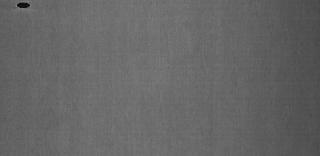punching hole: (14, 1, 32, 8)
